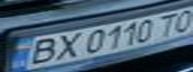0: (81, 27, 109, 54), (133, 17, 160, 43)
1: (106, 22, 127, 51), (121, 19, 142, 46)
B: (21, 35, 63, 66)
O: (166, 8, 193, 34)
T: (151, 11, 184, 38)
X: (48, 30, 84, 62)
